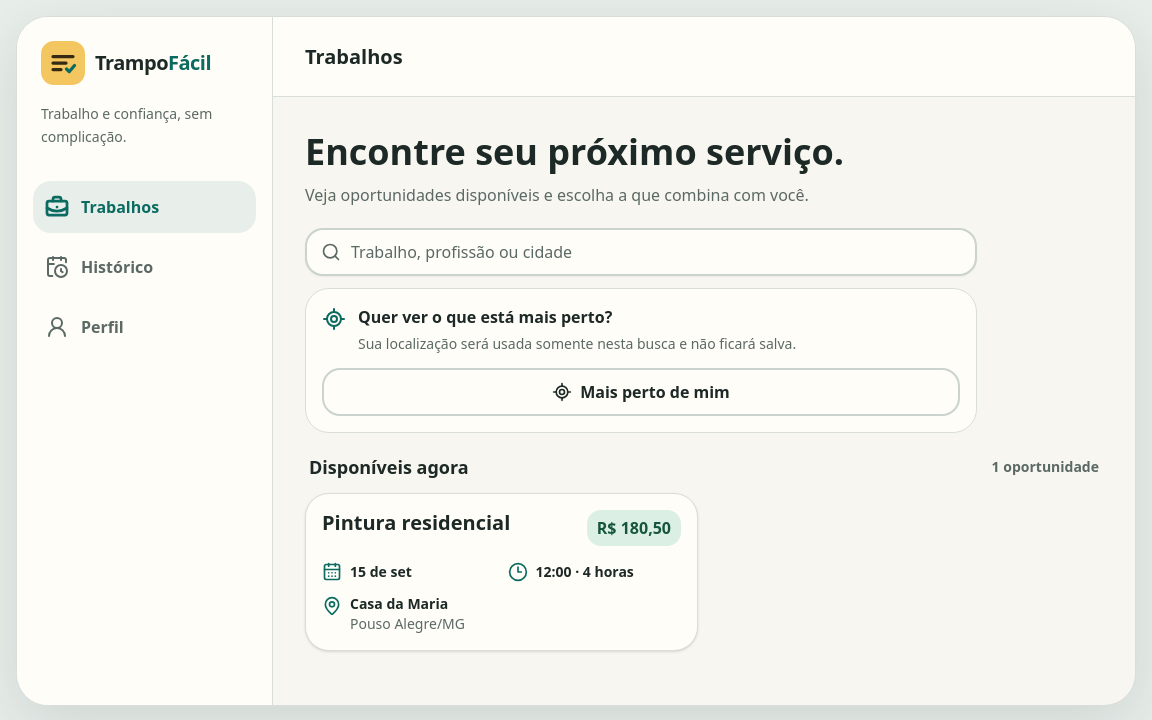
Test case: worker job flow › keeps all jobs visible when location permission is denied
This screenshot has width=1152, height=720.
Expected: the link with aria-label "Ver trabalho: Pintura residencial" is shown, [305,493,698,651]
Click the button "Mais perto de mim". click: x=641, y=392
box: [322,368,960,416]
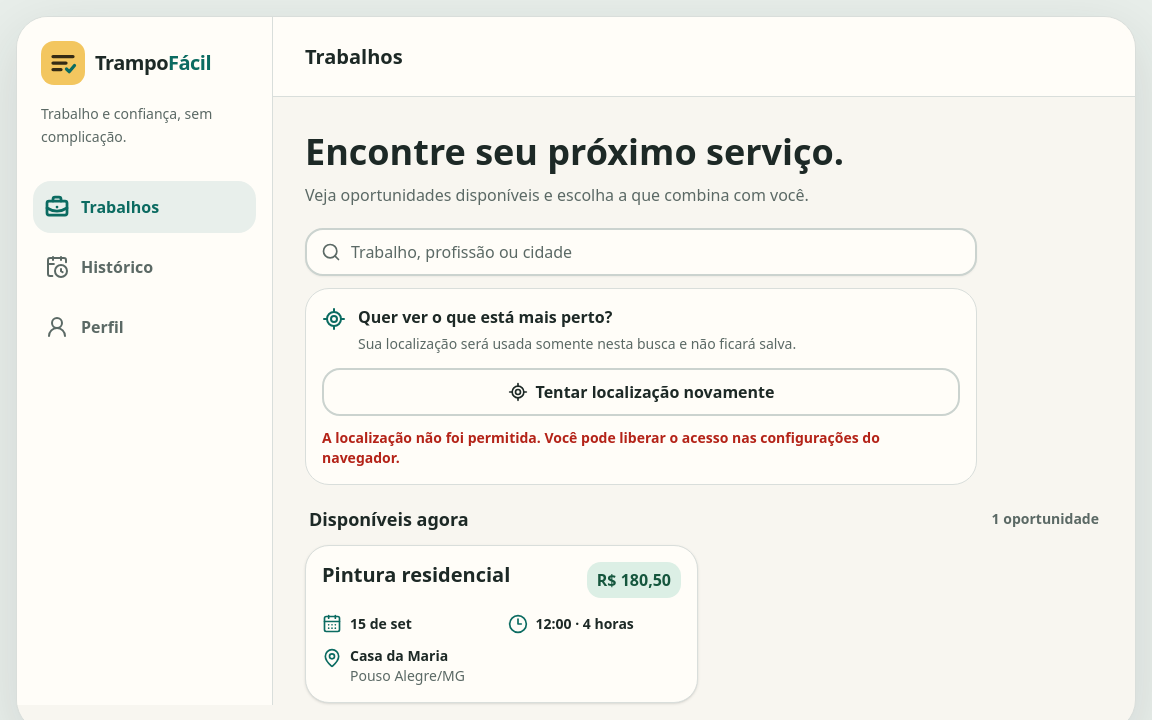
Expected: the heading "Pintura residencial" is shown, [322,562,510,587]
Expected: the message shows "A localização não foi permitida", [322,428,880,467]
